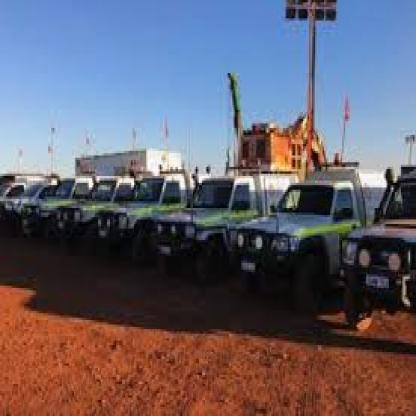light_vehicle: (13, 146, 338, 316)
